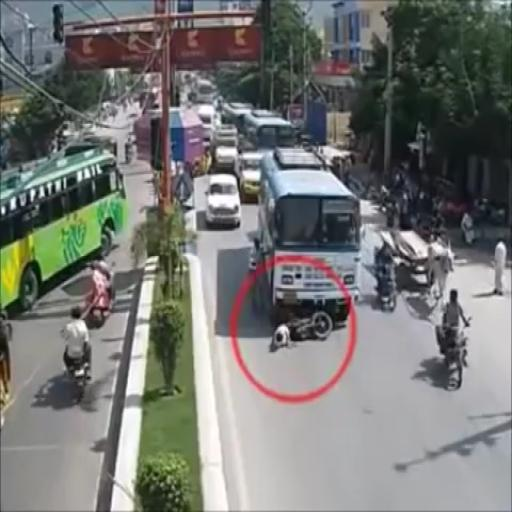小汽车: (0, 142, 126, 306), (208, 174, 239, 224)
小汽车撞自行车: (259, 149, 360, 350)
自行车: (434, 288, 468, 388), (62, 309, 92, 399), (374, 239, 399, 312), (88, 259, 115, 323)
